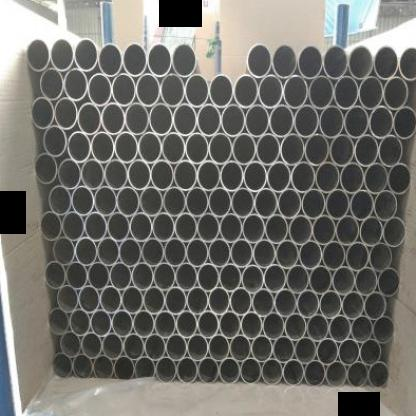pipe: (357, 74, 384, 111), (347, 44, 374, 80), (318, 104, 345, 140), (257, 73, 284, 109), (282, 74, 309, 110), (271, 43, 298, 78), (122, 41, 148, 77), (246, 42, 272, 78), (87, 70, 113, 106), (373, 44, 399, 80), (135, 72, 161, 108), (322, 44, 348, 80), (333, 74, 359, 110), (308, 74, 334, 110), (368, 104, 394, 140), (25, 37, 51, 72), (148, 101, 174, 136), (208, 73, 234, 108), (184, 72, 210, 107), (293, 104, 319, 139), (233, 73, 259, 108), (74, 37, 99, 73), (40, 66, 65, 102), (160, 72, 185, 108), (344, 104, 369, 140), (383, 75, 408, 111), (63, 66, 88, 102), (50, 36, 75, 72), (76, 102, 102, 136), (220, 103, 246, 137), (297, 44, 323, 78), (255, 132, 281, 166), (353, 134, 379, 168), (147, 42, 172, 77), (269, 104, 294, 139), (112, 71, 136, 107), (304, 133, 330, 166), (339, 161, 365, 194), (98, 42, 123, 76), (43, 124, 68, 158), (53, 96, 78, 130), (124, 102, 149, 136), (66, 129, 91, 163), (172, 42, 196, 77), (114, 130, 138, 165), (173, 102, 197, 137), (56, 157, 82, 189), (290, 161, 316, 193), (363, 162, 389, 194), (280, 133, 305, 166), (208, 132, 233, 165), (197, 103, 221, 137), (245, 104, 269, 138), (101, 102, 125, 136), (161, 131, 185, 165), (349, 189, 374, 221), (329, 134, 354, 166), (315, 161, 340, 193), (139, 185, 164, 217), (116, 185, 141, 217), (266, 161, 291, 193), (80, 158, 105, 190), (34, 152, 58, 185), (138, 131, 162, 164), (31, 96, 55, 129), (387, 162, 411, 195), (373, 189, 397, 222), (378, 134, 402, 167), (243, 160, 267, 193), (393, 106, 416, 140), (325, 189, 350, 220), (321, 240, 346, 271), (311, 214, 336, 245), (288, 214, 313, 245), (264, 213, 289, 244), (173, 160, 198, 191), (196, 160, 221, 191), (106, 211, 131, 242), (91, 131, 115, 163), (232, 133, 256, 165), (104, 158, 128, 190), (220, 160, 244, 192), (359, 215, 383, 247), (185, 132, 209, 164), (277, 188, 302, 218), (301, 189, 326, 219), (335, 215, 360, 245), (207, 187, 232, 217), (308, 265, 333, 295), (241, 213, 266, 243), (254, 187, 278, 218), (162, 186, 186, 217), (231, 187, 255, 218), (150, 159, 174, 190), (252, 238, 276, 269), (48, 184, 72, 215), (127, 159, 151, 190), (298, 240, 323, 269), (285, 265, 310, 294), (345, 241, 369, 271), (174, 212, 198, 242), (275, 239, 299, 269), (129, 212, 153, 242), (263, 263, 287, 293), (368, 242, 392, 272), (52, 236, 76, 266), (196, 212, 219, 243), (94, 185, 117, 216), (72, 185, 95, 216), (84, 211, 107, 242), (331, 266, 355, 295), (296, 289, 320, 318), (142, 286, 166, 315), (354, 267, 378, 296), (231, 238, 254, 268), (219, 213, 242, 243), (141, 237, 164, 267), (219, 262, 242, 292), (164, 237, 187, 267), (175, 261, 198, 291), (119, 237, 142, 267), (382, 217, 405, 247), (241, 263, 264, 293), (62, 211, 85, 241), (152, 212, 175, 242), (377, 267, 400, 297), (186, 186, 208, 217), (152, 262, 176, 290), (39, 211, 62, 240), (109, 261, 132, 290), (328, 314, 351, 343), (284, 312, 307, 341), (186, 286, 209, 315), (262, 311, 285, 340), (372, 315, 395, 344), (208, 238, 230, 268), (131, 262, 154, 290), (196, 263, 219, 291), (341, 291, 364, 319), (319, 290, 342, 318), (306, 314, 329, 342), (121, 286, 144, 314), (338, 337, 360, 366), (186, 238, 208, 267), (165, 286, 187, 315), (97, 237, 119, 266), (274, 288, 296, 317), (208, 286, 230, 315), (75, 237, 97, 266), (252, 288, 274, 317), (100, 285, 122, 314), (132, 309, 154, 338), (90, 308, 112, 337), (88, 261, 110, 290), (346, 360, 368, 389), (272, 335, 294, 364), (166, 333, 188, 362), (261, 357, 283, 386), (208, 333, 230, 362), (218, 356, 240, 385), (251, 334, 273, 363), (187, 333, 209, 362), (240, 310, 262, 339), (398, 45, 416, 80), (122, 333, 145, 360), (316, 337, 338, 365), (359, 338, 381, 366), (230, 287, 252, 315), (282, 358, 304, 386), (350, 315, 372, 343), (176, 310, 198, 338), (154, 310, 176, 338), (218, 310, 240, 338), (304, 359, 326, 387), (364, 291, 386, 319), (102, 332, 124, 360), (326, 360, 348, 388), (197, 310, 219, 338), (111, 309, 133, 337), (66, 261, 88, 289), (78, 285, 100, 313), (68, 308, 90, 336), (294, 336, 316, 364), (144, 333, 166, 361), (229, 334, 251, 362), (81, 332, 103, 359), (176, 356, 198, 383), (155, 356, 177, 383), (240, 357, 262, 384), (60, 330, 82, 357), (57, 285, 78, 313), (48, 307, 69, 335), (368, 361, 389, 389), (45, 261, 66, 289), (134, 355, 156, 381), (52, 352, 73, 379), (198, 356, 218, 384), (93, 354, 114, 380), (72, 353, 93, 379), (113, 355, 134, 381)
